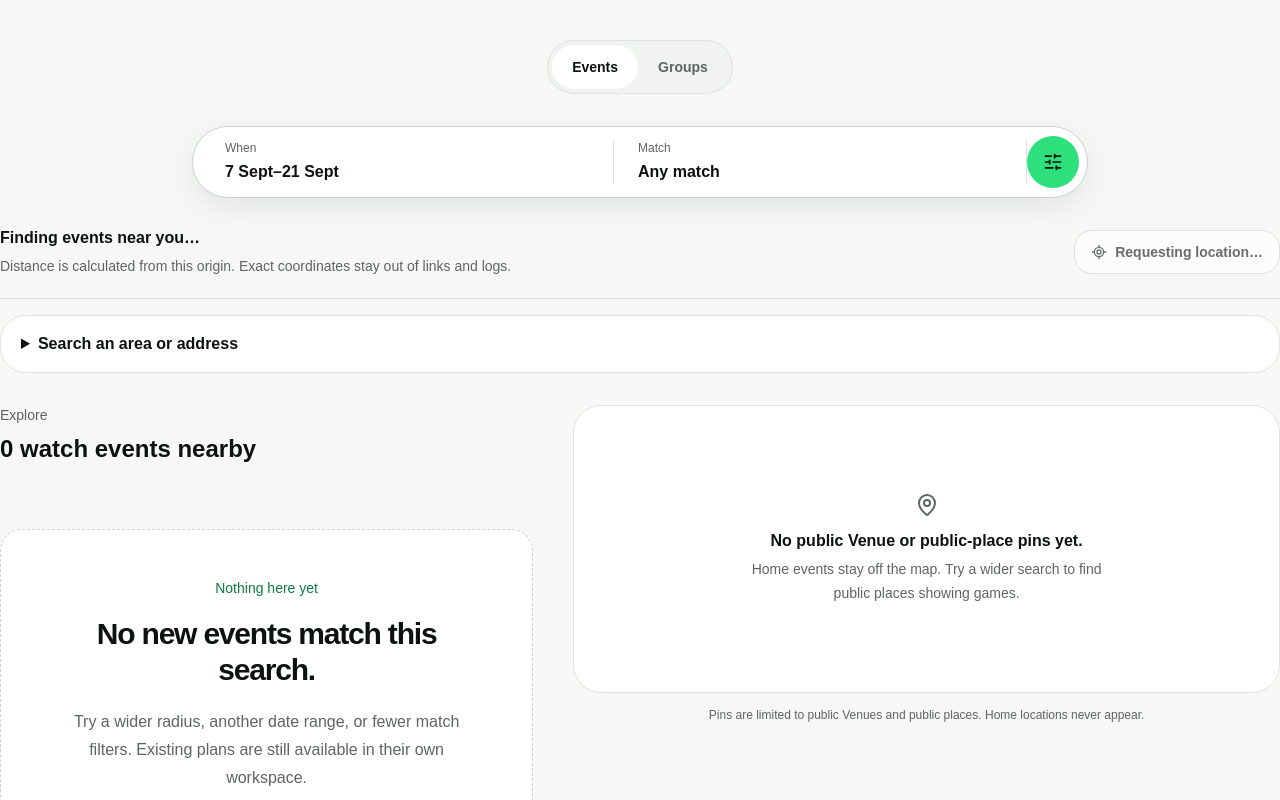
DiscoverPage › stops an inverted date range in the filter dialog before navigation
Click the button with aria-label "Change Explore search" at (640, 162), box [192,126,1088,198]
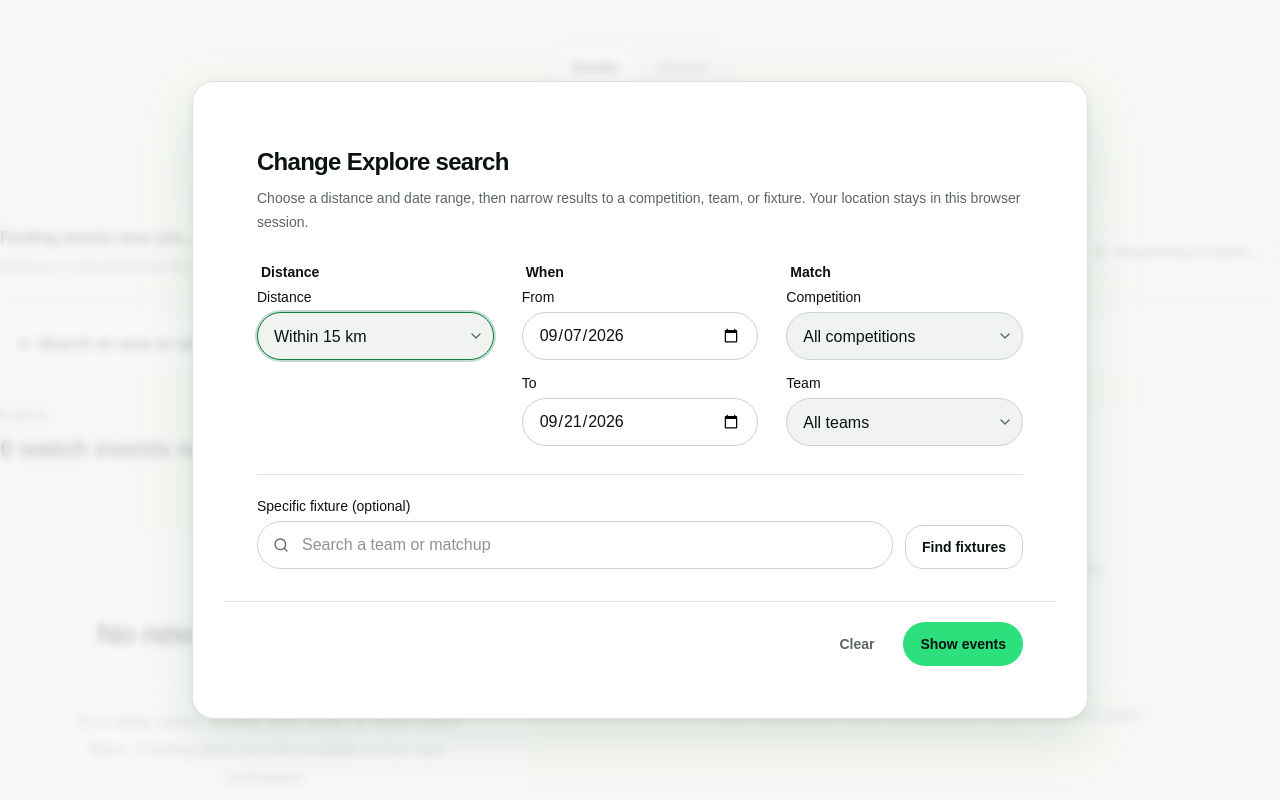
Type "2026-09-14" into the date field labelled "From" at (640, 336), box [522,312,758,360]
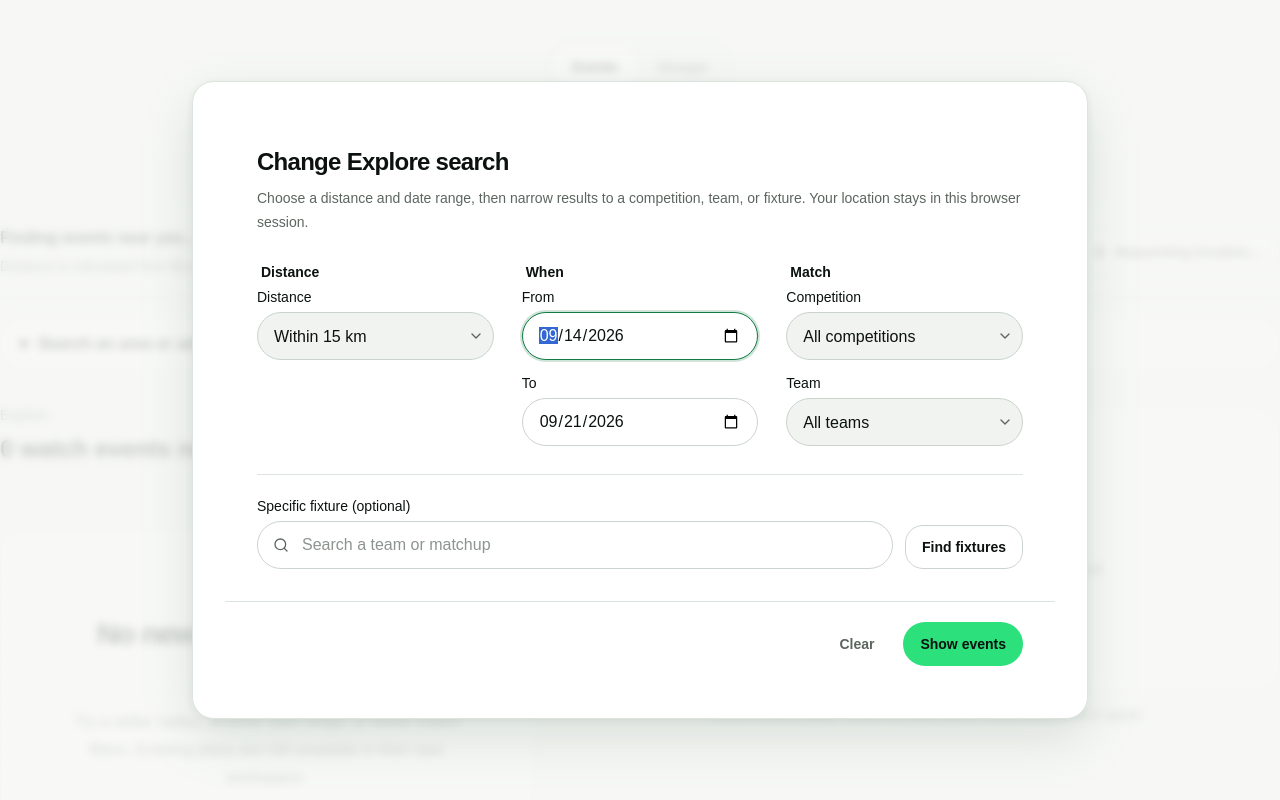
Type "2026-08-31" into the date field labelled "To" at (640, 422), box [522,398,758,446]
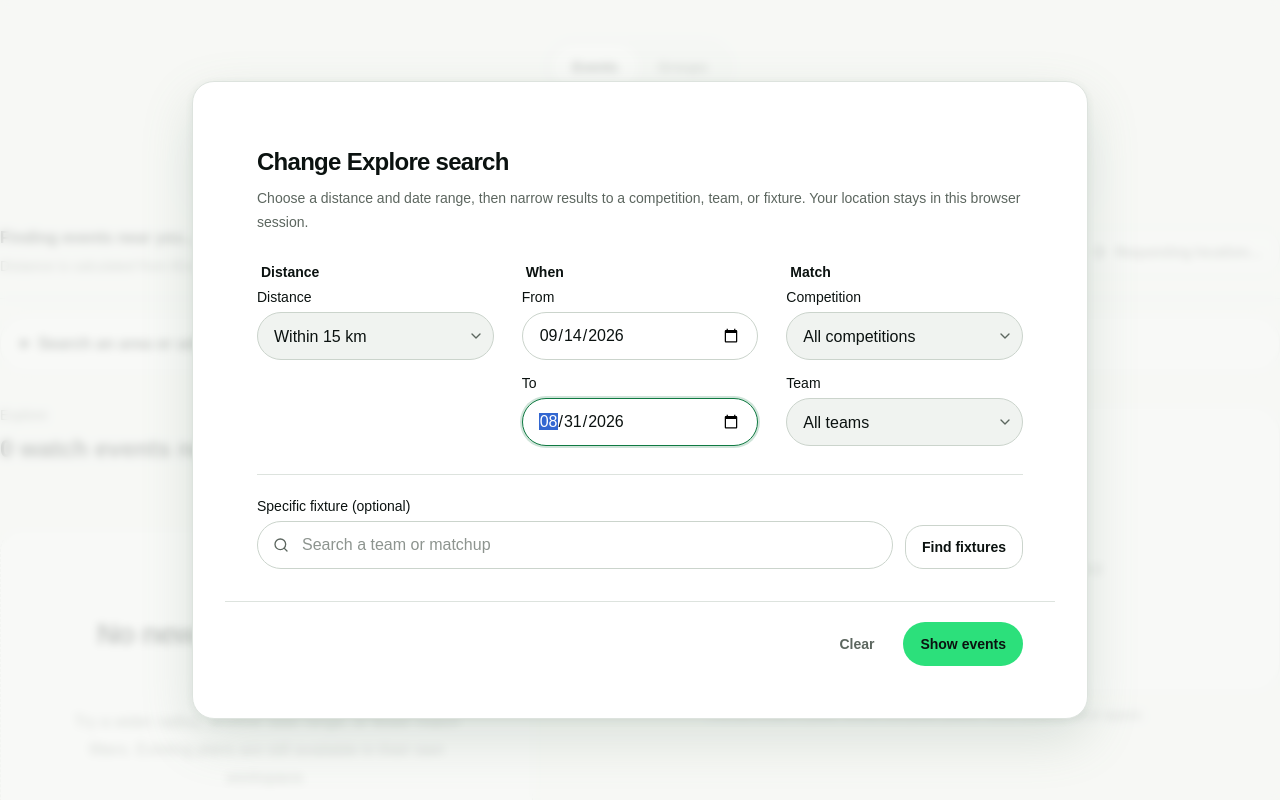
Click the button "Show events" at (963, 644), box [903,622,1023,666]
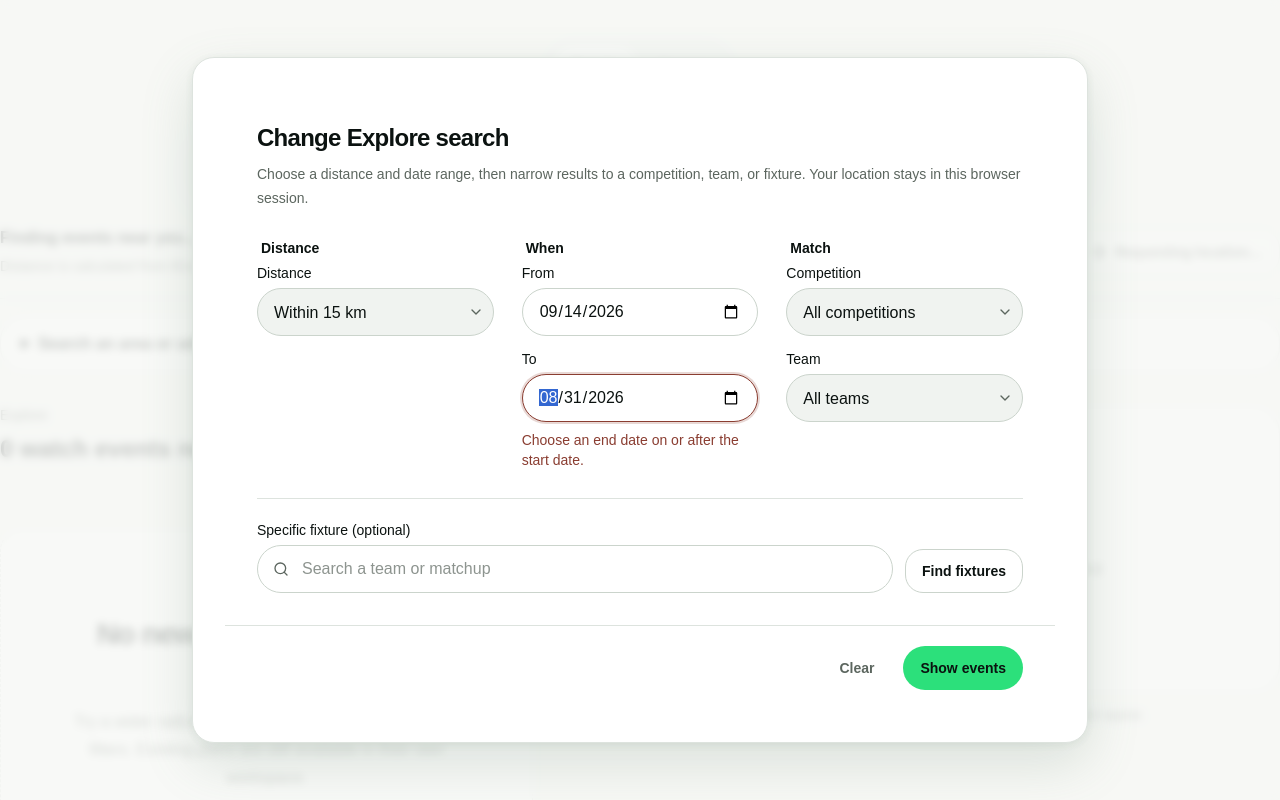
expect the text "Choose an end date on or after the start date." is shown: met, box [522,430,758,470]
